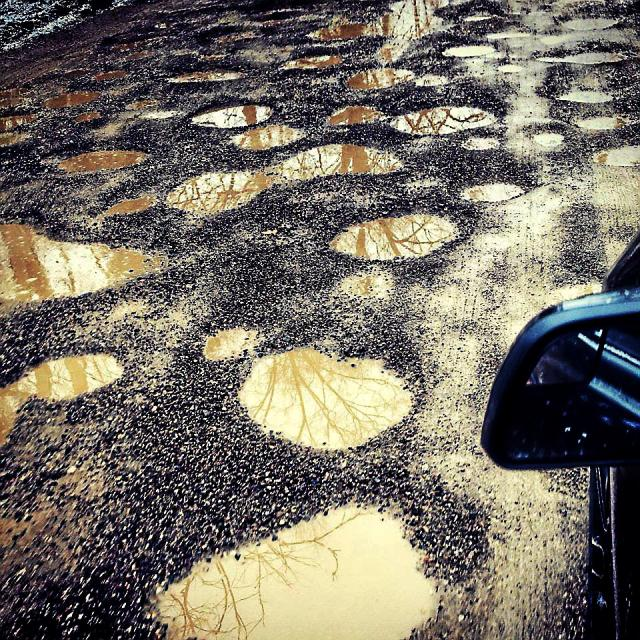Pothole: (3, 4, 502, 640), (128, 468, 491, 640), (198, 306, 428, 467)
